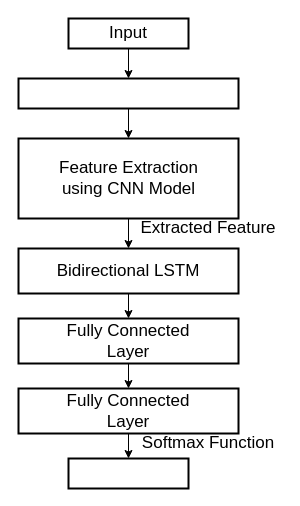
This 300x506 diagram has some shape labels left out. Here are the shapes that lost their labels. From the top down, the centre of each, then its label:
(128,93): Frame Extraction
(128,473): Output
